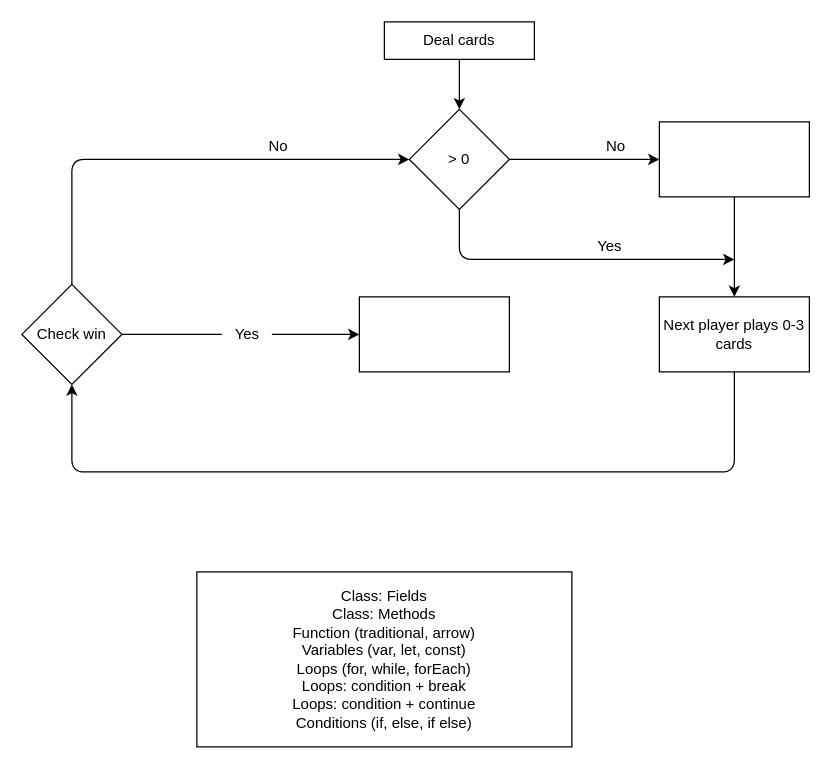
The diagram is 831 pixels wide and 769 high, and some of its shapes have lost their labels. Each missing label, with the box of its shape:
Game over: (358, 296, 509, 372)
Player draws 2 cards: (658, 121, 809, 197)
